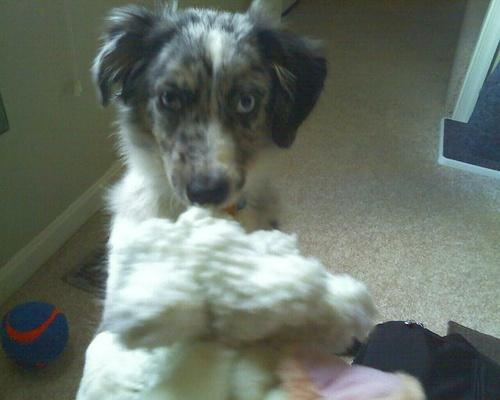dog: (81, 4, 325, 242)
